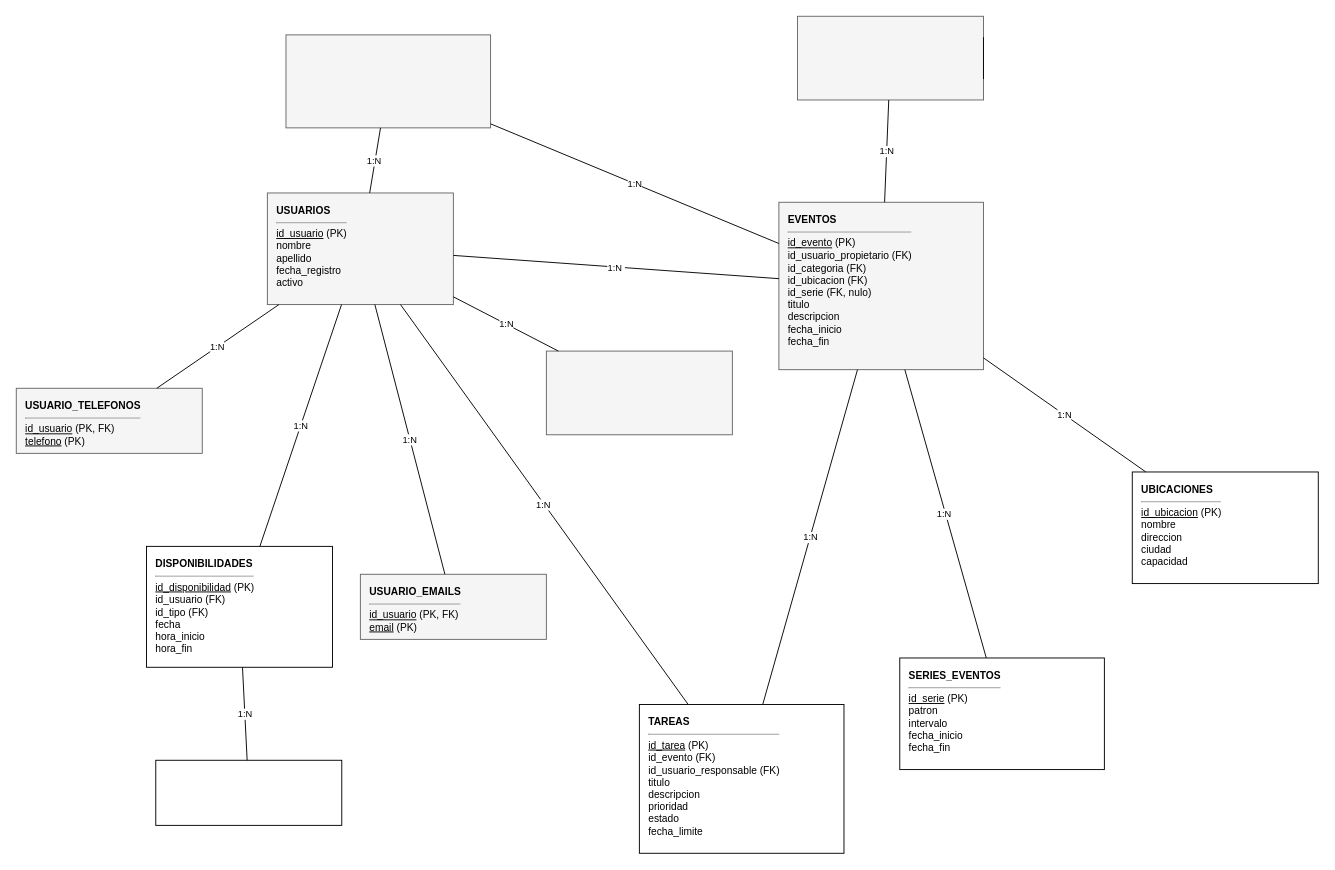
Some shapes in this 1335 by 870 pixel diagram are drawn without their labels. Each missing label, with the centre of its shape:
"CATEGORIAS id_categoria (PK) nombre id_categoria_padre (FK)" belongs at pixel 890 57.
"LOG_ACCESOS id_log (PK) id_usuario (FK) fecha_acceso" belongs at pixel 638 392.
"PARTICIPACIONES id_evento (PK, FK) id_invitado (PK, FK) rol estado_confirmacion" belongs at pixel 388 81.
"TIPOS_DISPONIBILIDAD id_tipo (PK) nombre" belongs at pixel 248 792.
